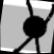not correct: (8, 0, 54, 54)
